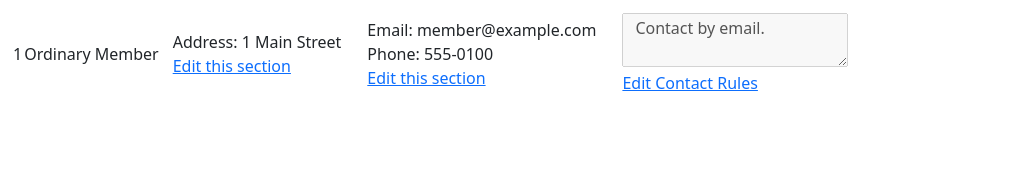
Test: saves the edited email and confirms success
Click the text "Edit this section" below "Phone:" at (426, 78), box [367, 67, 486, 89]
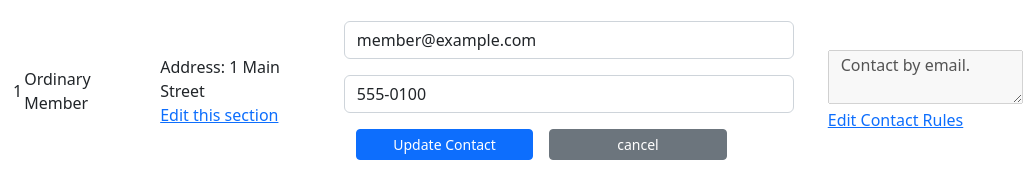
Replace the text in the 1st field with placeholder "Email" with "updated@example.com" at (569, 40), box [344, 21, 794, 59]
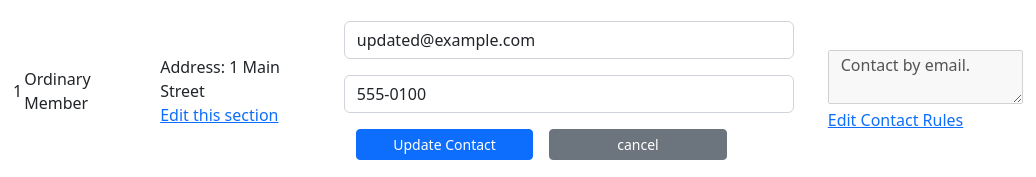
Click the button "Update Contact" at (445, 144), box [356, 129, 533, 160]
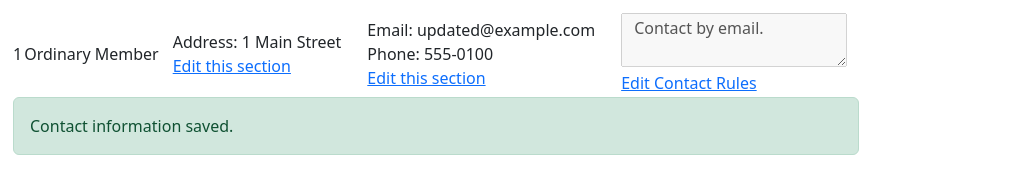
Now the text "Email: updated@example.com" is shown, box [367, 18, 595, 42]
Now the message reads "Contact information saved.", box [30, 115, 233, 137]
